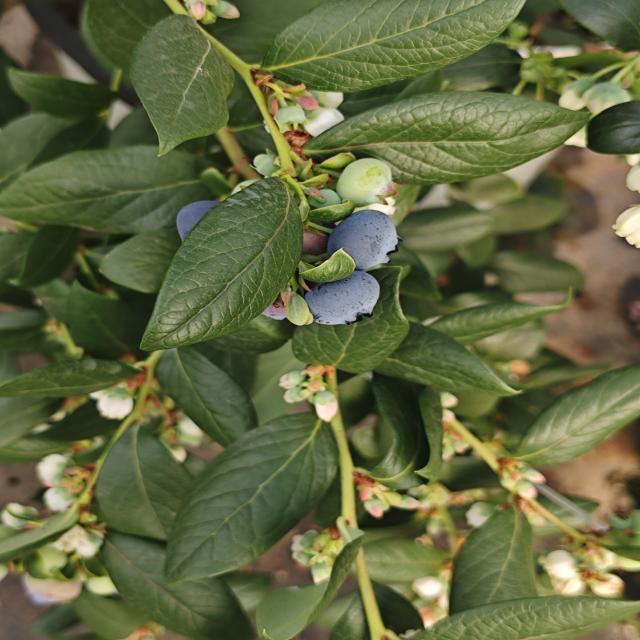ripe: (325, 196, 412, 275), (292, 282, 385, 328), (169, 194, 243, 249), (254, 283, 292, 324)
